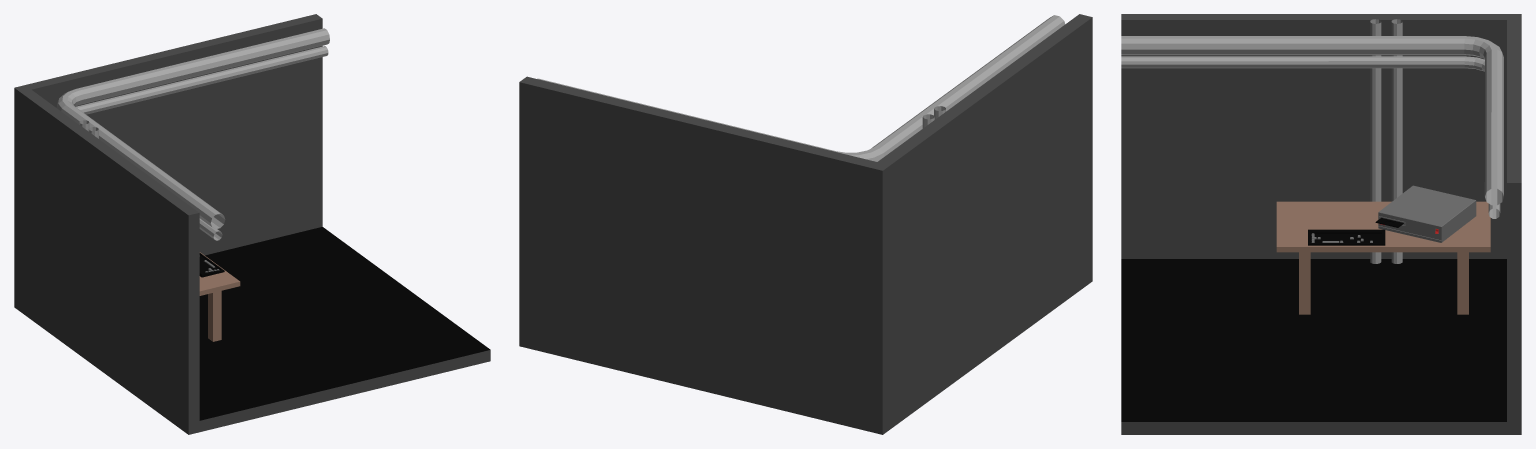
Rendered from testroom3.glb.
3 views of the same model, side by side, from view 1: azimuth 30°, elevation 25°; view 2: azimuth 150°, elevation 25°; view 3: azimuth 270°, elevation 25° (orthographic). The views are drawn at different scales.
Visible parts, largest first — view 1: Room, pipestop, Table.002, Labak.004; view 2: Room, pipestop; view 3: Room, pipestop, Table.002, Arcade game machine, Pc, Plane.022, Plane.016, Labak.002, Labak.004.
Part boxes in pixels (bbox=[...]): Room: bbox=[14, 14, 490, 434]; pipestop: bbox=[56, 28, 329, 240]; Table.002: bbox=[199, 252, 240, 295]; Labak.004: bbox=[208, 291, 221, 341]; Room: bbox=[519, 14, 1092, 434]; pipestop: bbox=[537, 15, 1065, 161]; Room: bbox=[1121, 14, 1521, 434]; pipestop: bbox=[1121, 36, 1503, 218]; Table.002: bbox=[1276, 201, 1490, 252]; Arcade game machine: bbox=[1370, 19, 1402, 263]; Pc: bbox=[1378, 185, 1476, 242]; Plane.022: bbox=[1308, 229, 1385, 245]; Plane.016: bbox=[1378, 212, 1441, 242]; Labak.002: bbox=[1457, 252, 1468, 314]; Labak.004: bbox=[1299, 252, 1310, 314].
Bounding box in the file's own units: 8.3 × 5.8 × 8.3.
